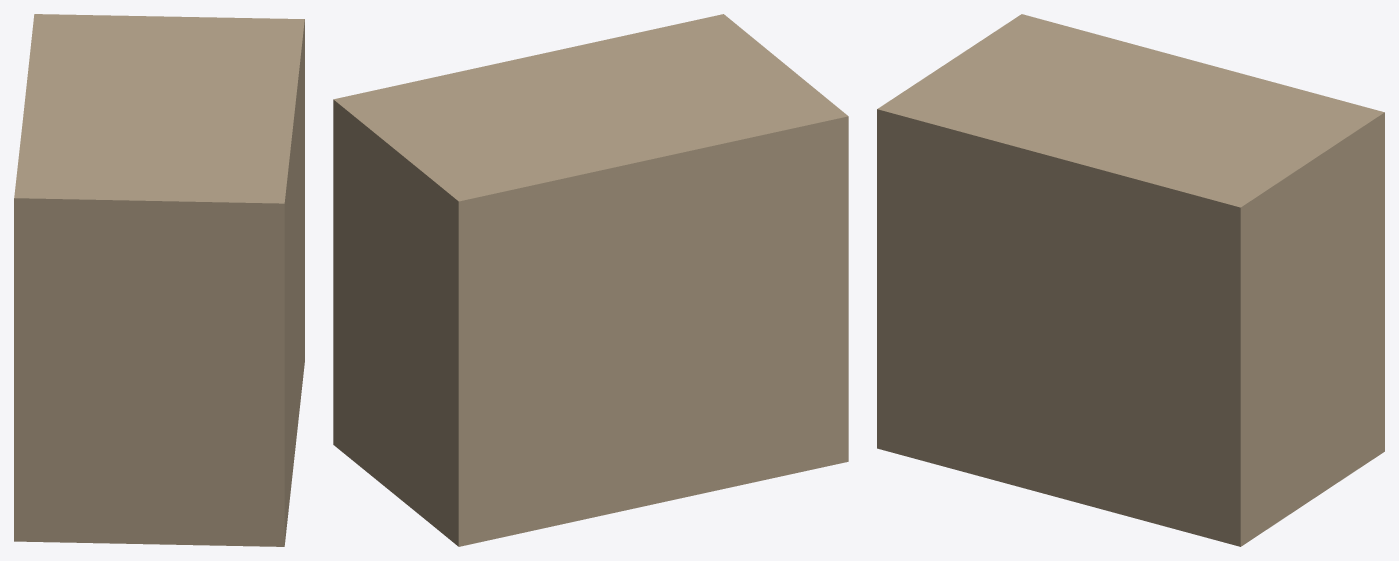
File: bld_100469794.dae
3 renders of one model, left to right at view 1: azimuth 30°, elevation 25°; view 2: azimuth 150°, elevation 25°; view 3: azimuth 270°, elevation 25°, orthographic.
Visible parts, largest first — view 1: bld_100469794; view 2: bld_100469794; view 3: bld_100469794.
Boxes of the visible parts, bbox=[...] form: bld_100469794: bbox=[14, 14, 304, 546]; bld_100469794: bbox=[333, 14, 848, 546]; bld_100469794: bbox=[877, 14, 1384, 546].
Size of the model in its own units: 9.79 by 10.85 by 8.
